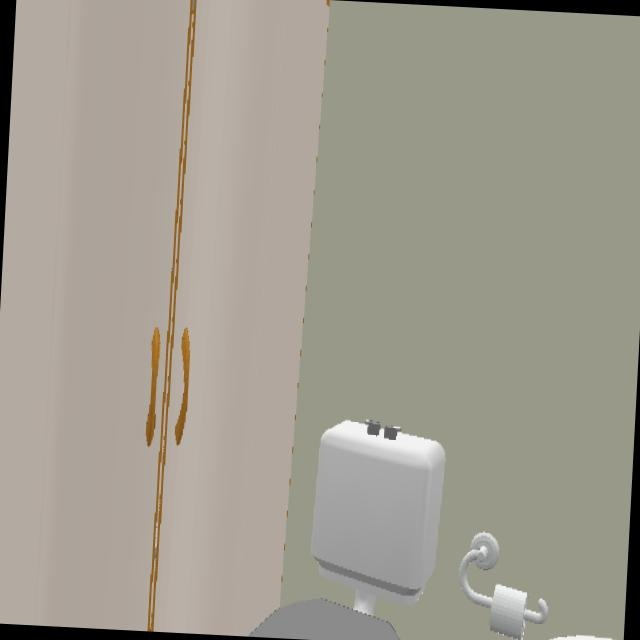toilet: (248, 420, 446, 640)
